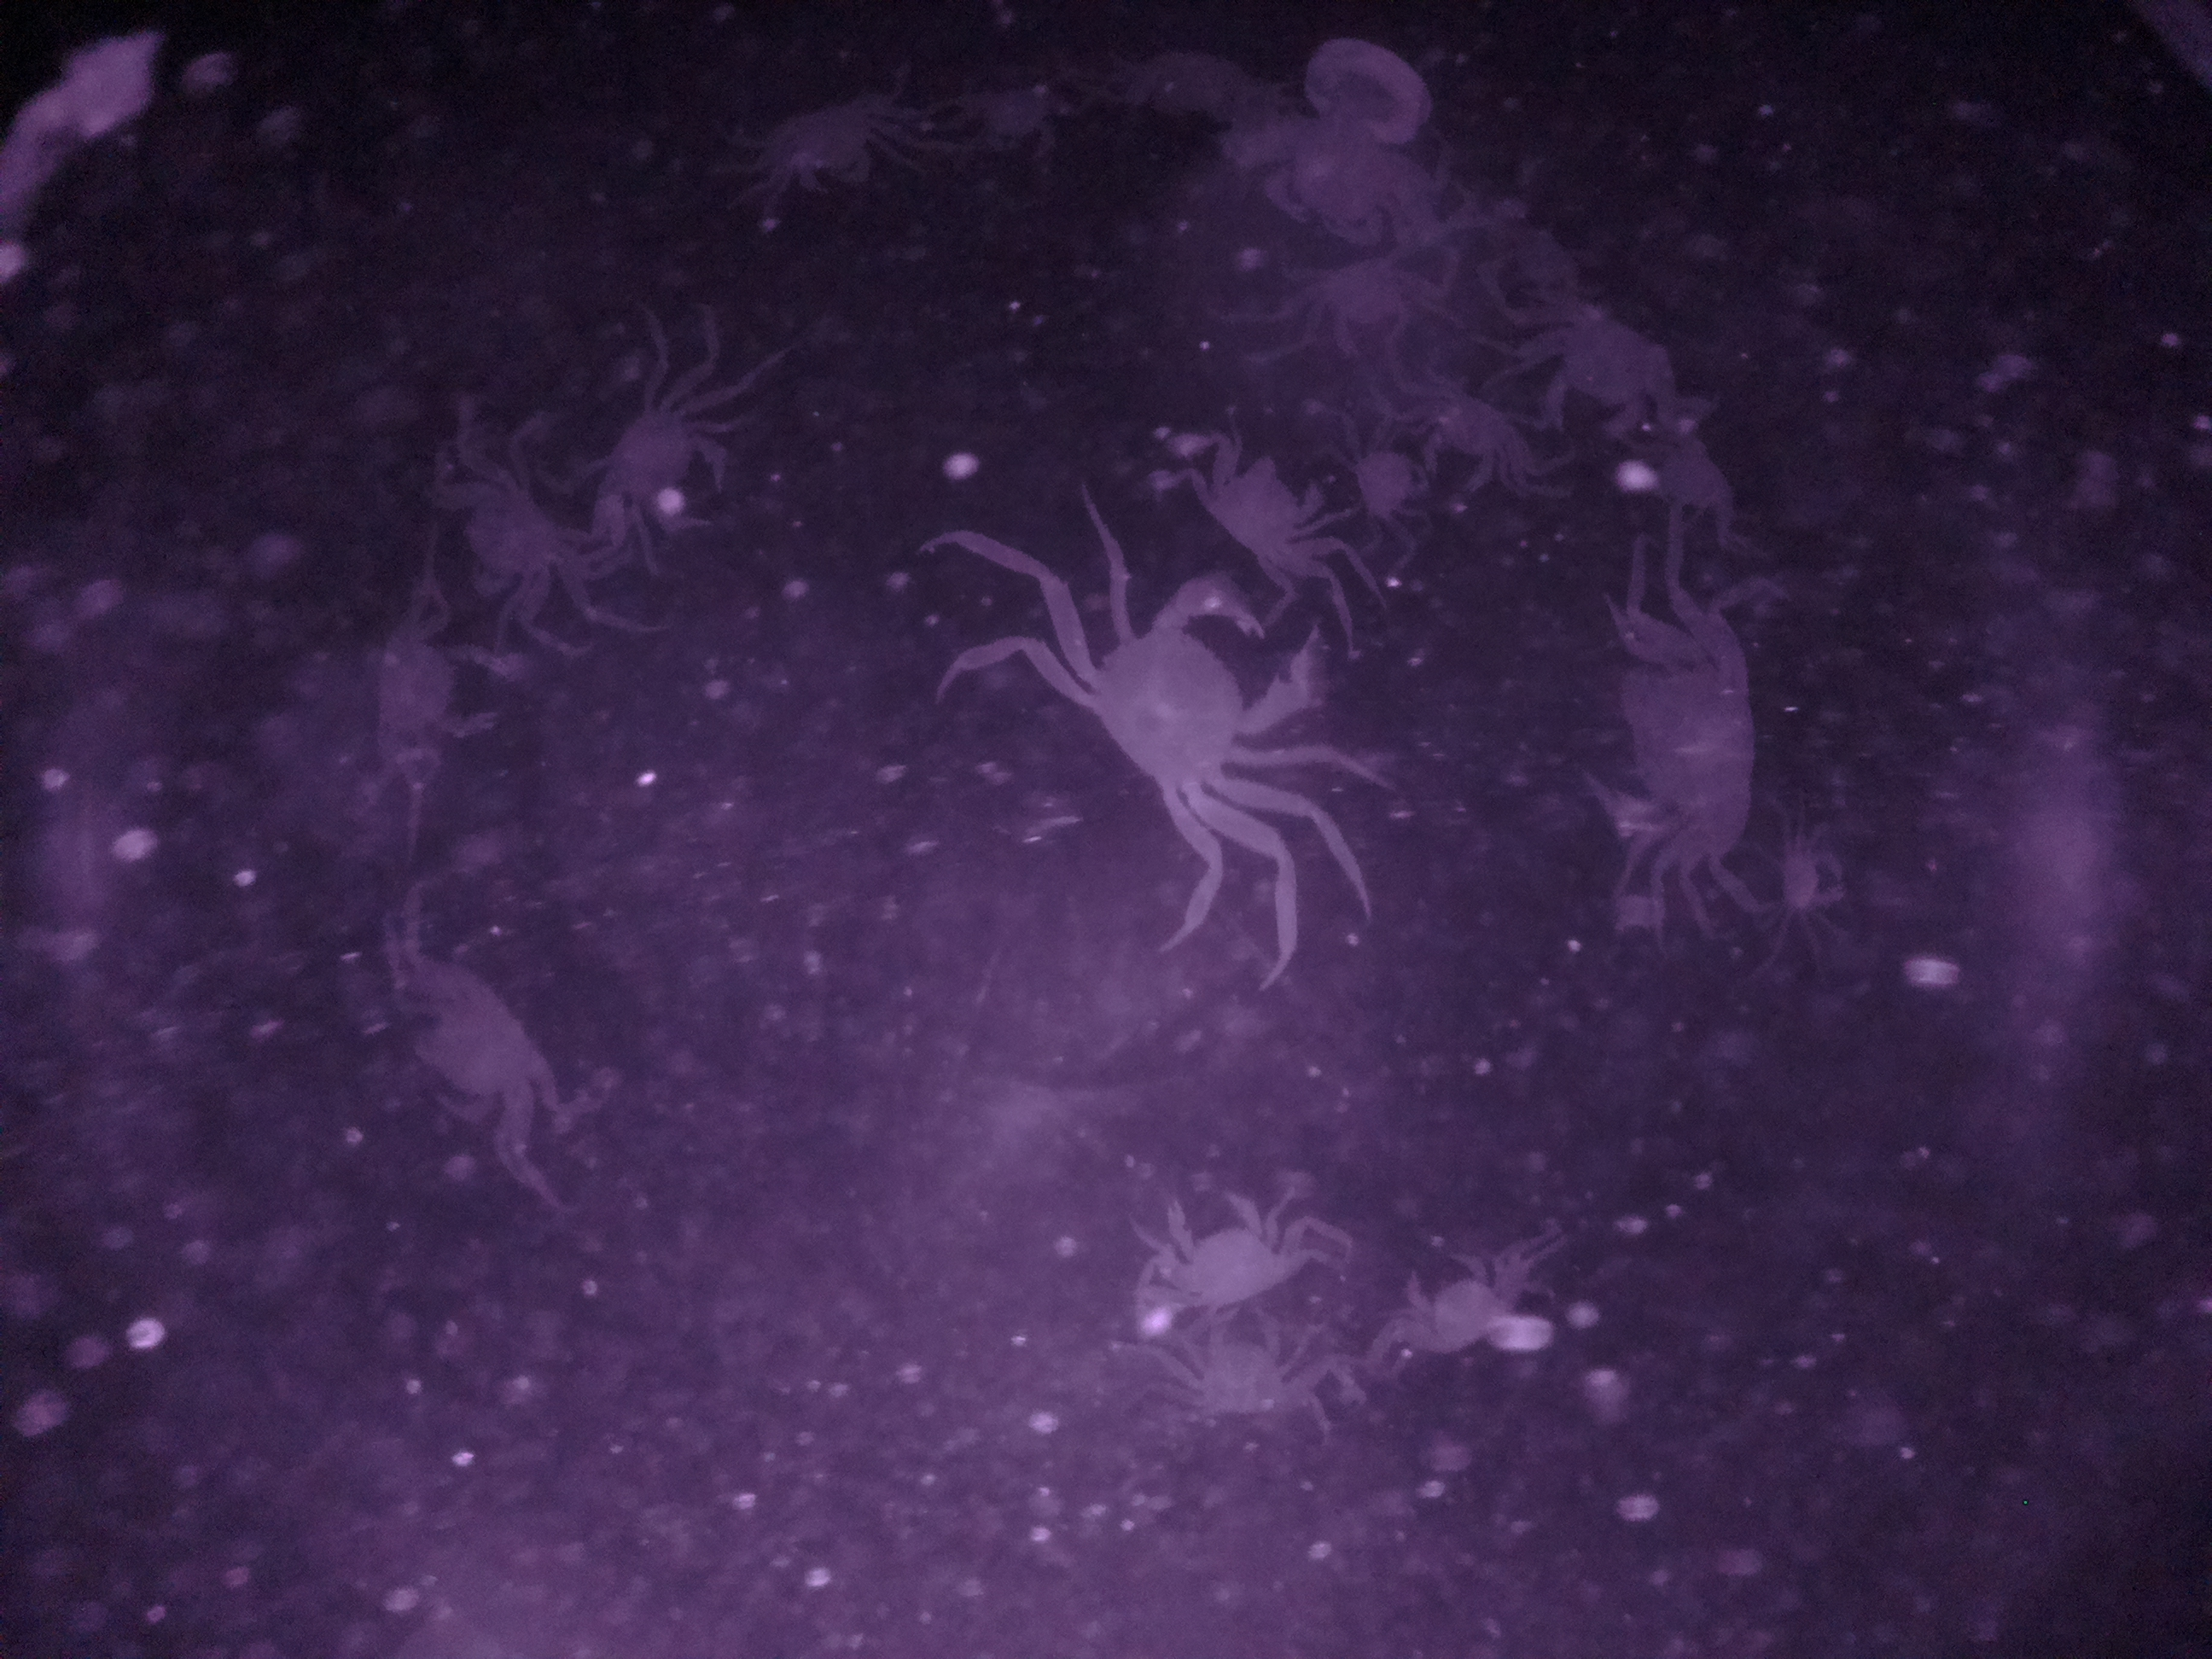Crab: (1040, 573, 1332, 889), (1576, 587, 1778, 887), (1170, 416, 1362, 605), (578, 371, 754, 556), (1522, 286, 1689, 458), (1130, 1178, 1320, 1330), (1146, 1295, 1329, 1445), (1381, 1230, 1557, 1384), (1292, 246, 1449, 371)
